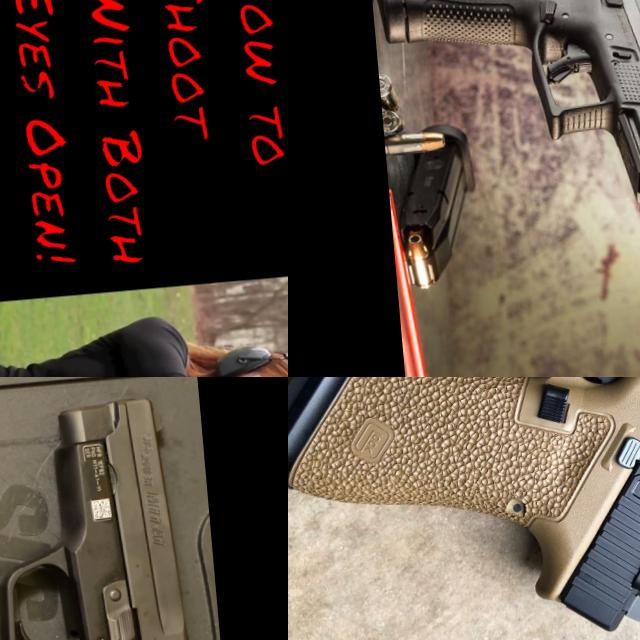handgun: (288, 377, 640, 640), (366, 0, 640, 257), (0, 388, 239, 640)
